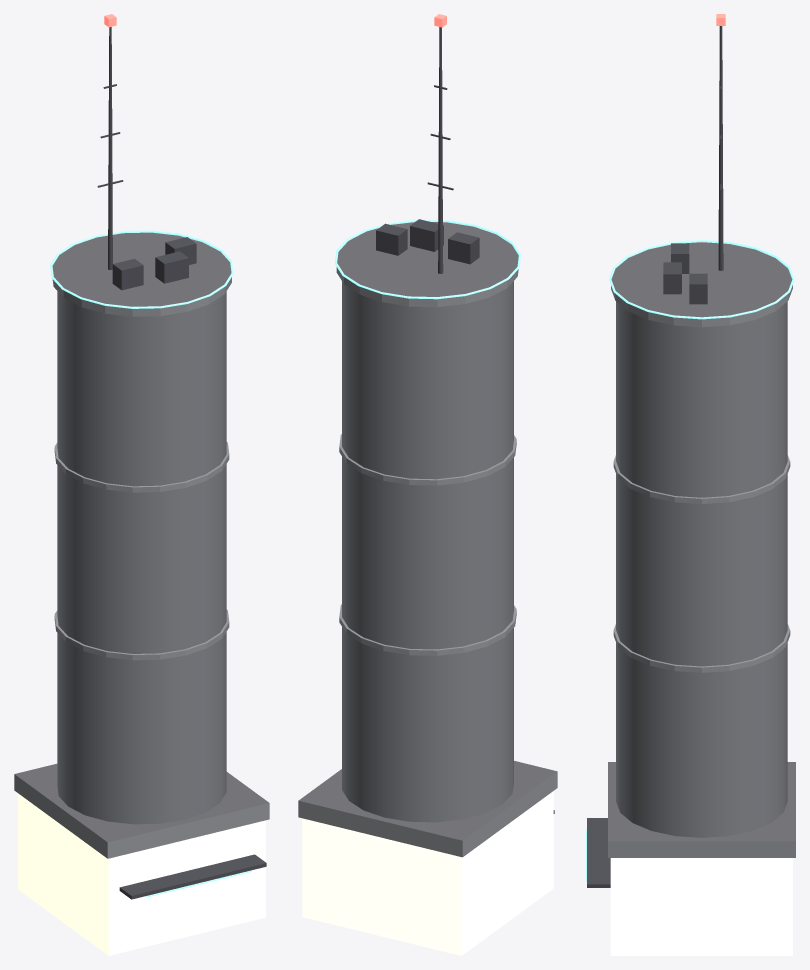
Rendered from s10_round.glb.
3 renders of one model, left to right at view 1: azimuth 30°, elevation 25°; view 2: azimuth 150°, elevation 25°; view 3: azimuth 270°, elevation 25°, orthographic.
Visible parts, largest first — view 1: s10_round; view 2: s10_round; view 3: s10_round.
Part boxes in pixels (x1,y1,x2,y2): s10_round: (14, 14, 269, 955); s10_round: (298, 14, 557, 955); s10_round: (586, 14, 795, 955).
Bounding box in the file's own units: 10.3 × 53.85 × 11.49.
